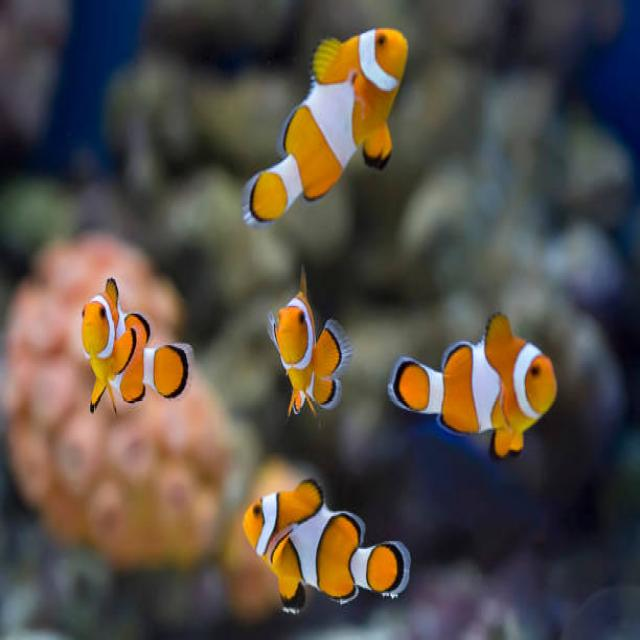ClownFish: (243, 23, 409, 234), (392, 318, 559, 459), (240, 477, 409, 616), (80, 276, 184, 419), (273, 273, 348, 423)
